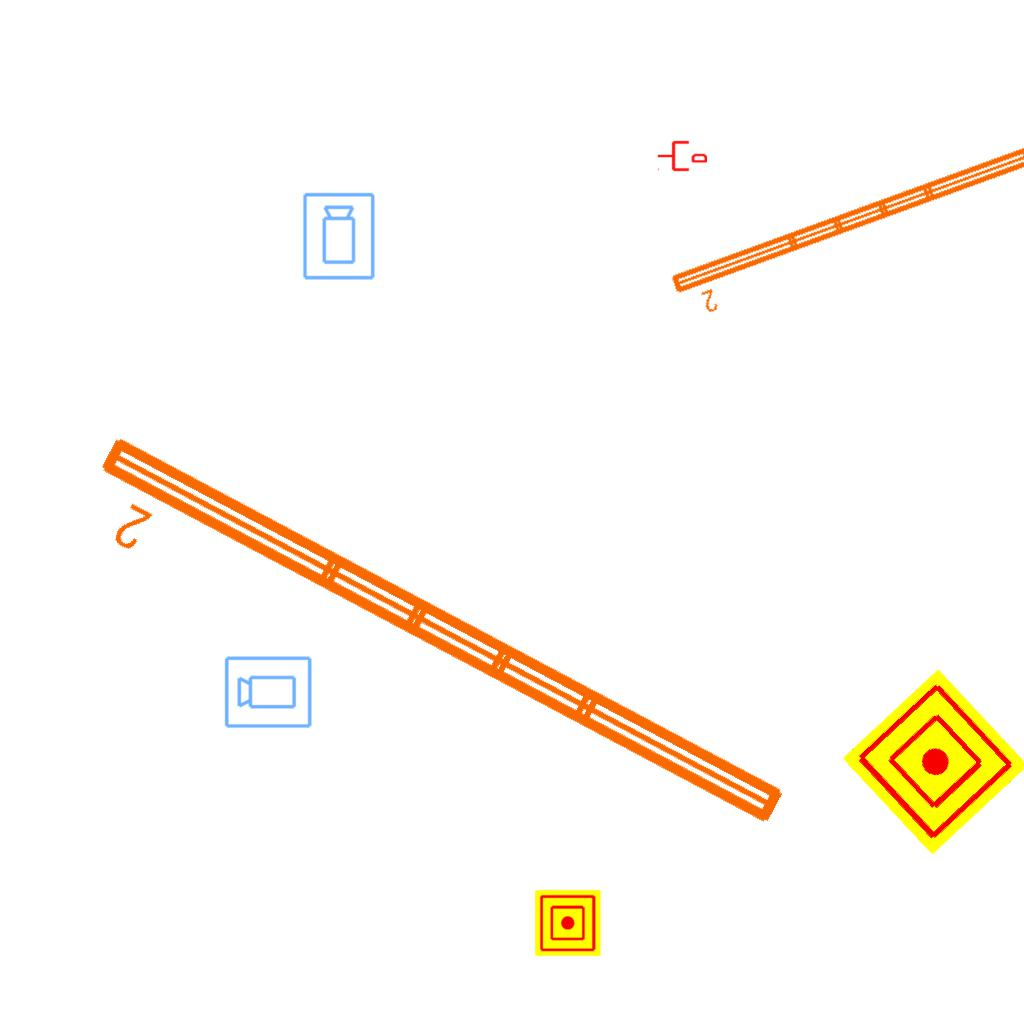Ambulanz_Pendelleuchte_LED: (63, 421, 799, 885), (665, 139, 1024, 325)
Datenanschluss_einfach: (657, 139, 707, 173)
KFO_Kamera_mit_Festobjektiv: (301, 191, 378, 282), (223, 653, 314, 730)
NAM-Nichtautomatischer_Melder: (841, 668, 1024, 856), (535, 890, 601, 956)
